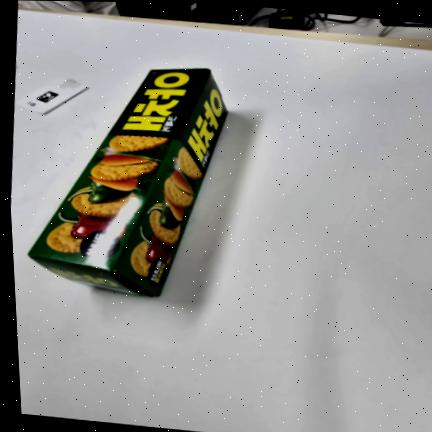cracker_vege: (29, 69, 227, 296)
